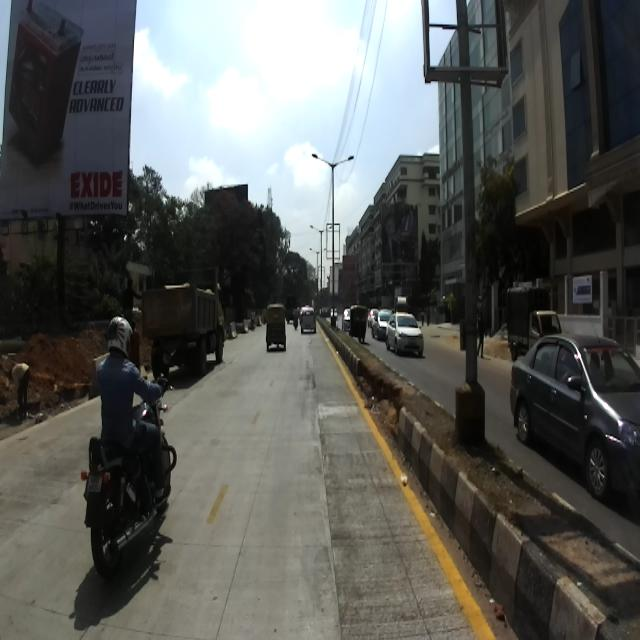motorcycle ahead at: (85, 430, 182, 568)
